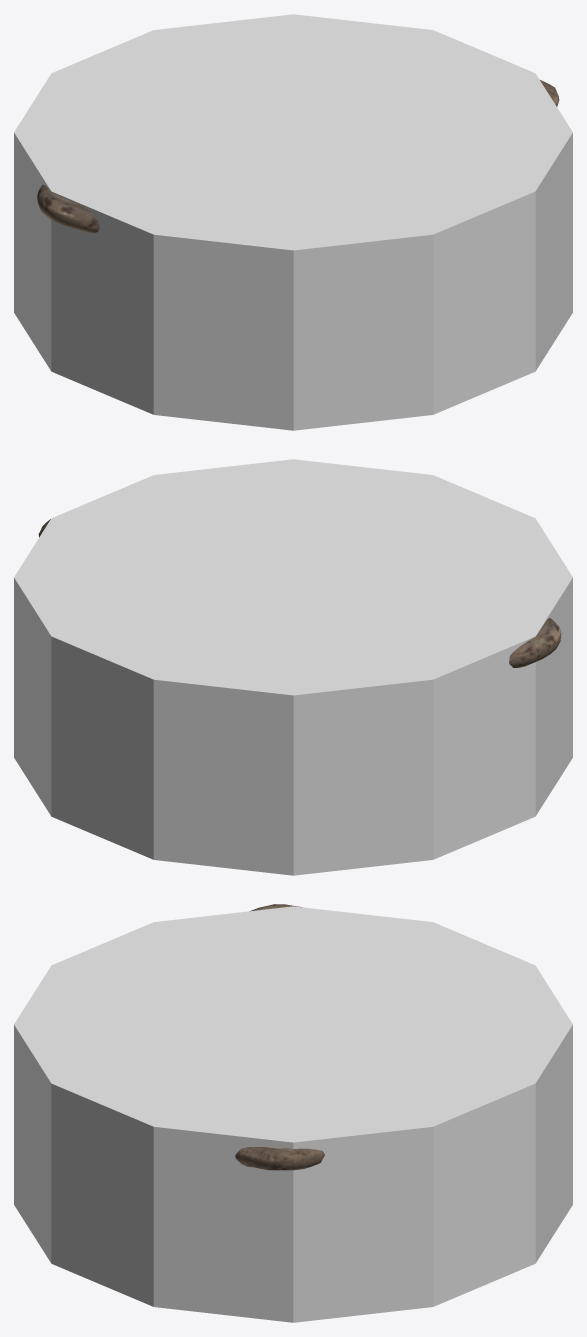
The model's file is kylix_sanctuary.glb.
The picture shows the model from 3 angles, top to bottom: view 1: azimuth 30°, elevation 25°; view 2: azimuth 150°, elevation 25°; view 3: azimuth 270°, elevation 25°; orthographic projection.
Parts seen in each view (by area): view 1: col_kylix_sanctuary, kylix_sanctuary; view 2: col_kylix_sanctuary, kylix_sanctuary; view 3: col_kylix_sanctuary, kylix_sanctuary.
Boxes of the visible parts, left/top/right/bottom form: col_kylix_sanctuary: left=14, top=14, right=572, bottom=430; kylix_sanctuary: left=37, top=80, right=559, bottom=233; col_kylix_sanctuary: left=14, top=459, right=572, bottom=875; kylix_sanctuary: left=38, top=519, right=561, bottom=667; col_kylix_sanctuary: left=14, top=906, right=572, bottom=1322; kylix_sanctuary: left=235, top=904, right=324, bottom=1170.
Bounding box in the file's own units: 0.2196 × 0.0743 × 0.2089.
1 material, 1 textured.
